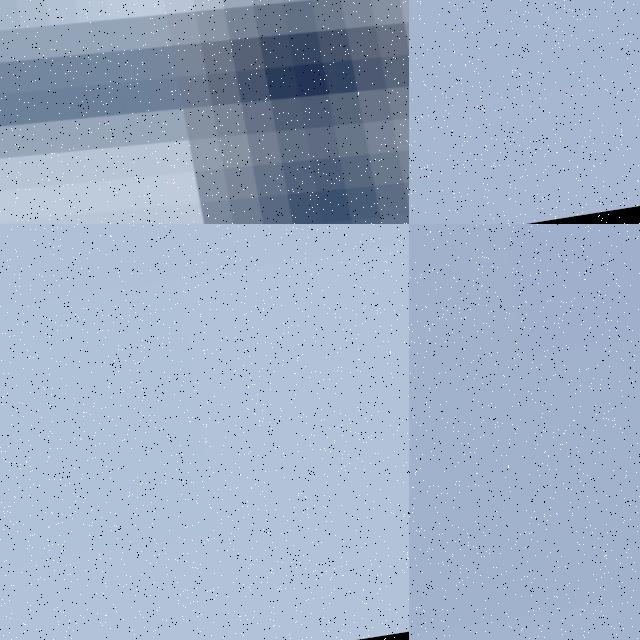drone: (0, 0, 409, 224)
